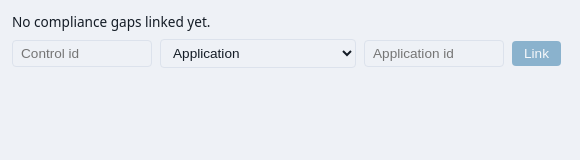
Test: InitiativeControlMappingEditor › surfaces a 404 as a not-yet-assessed message
Type "CTRL-2" into the field with placeholder "Control id". click: (82, 53)
box: left=12, top=40, right=152, bottom=67
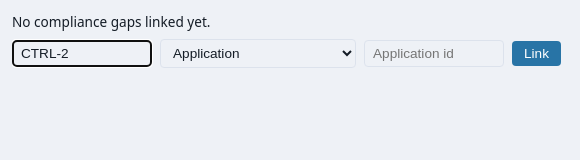
Type "APP-2" into the field with placeholder "Application id". click: (434, 53)
box: left=364, top=40, right=504, bottom=67
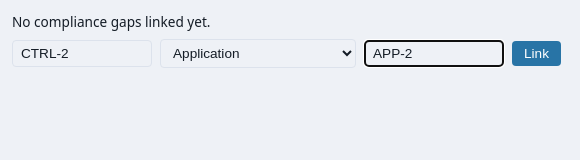
Click the button "Link". click: click(536, 53)
box: left=512, top=41, right=561, bottom=66
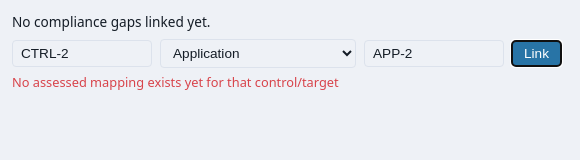
Now the text "No assessed mapping exists yet for that control/target" is shown, box left=12, top=73, right=339, bottom=91
